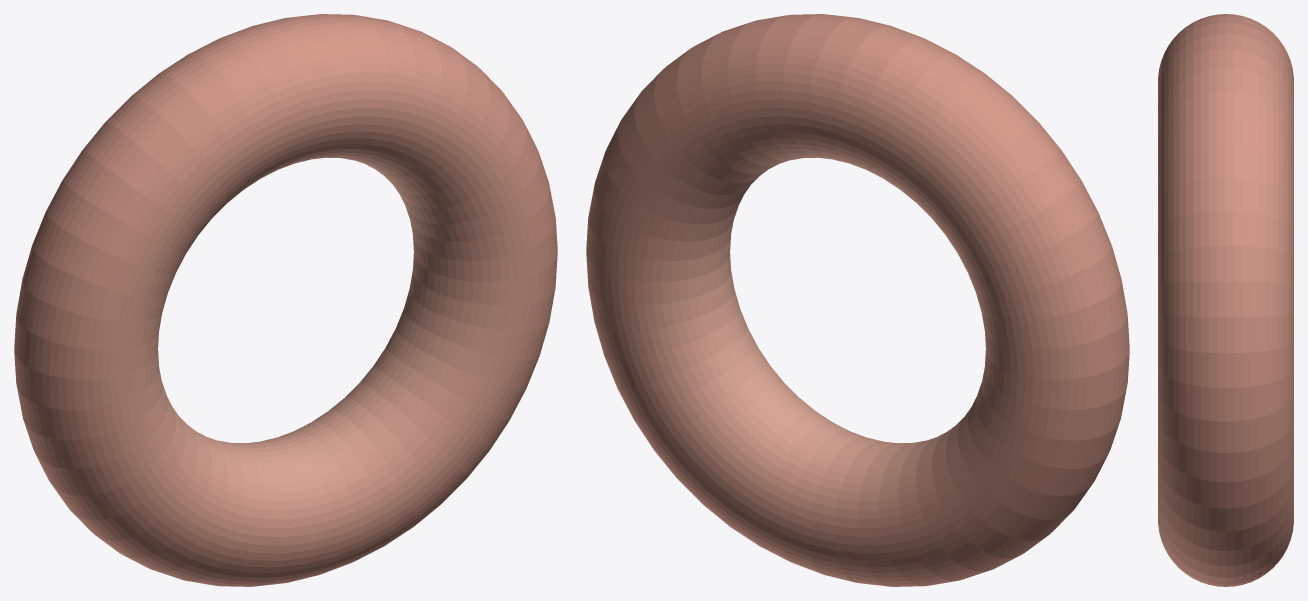
3 views of the same model, side by side, from view 1: azimuth 30°, elevation 25°; view 2: azimuth 150°, elevation 25°; view 3: azimuth 270°, elevation 25° (orthographic). The views are drawn at different scales.
Parts seen in each view (by area): view 1: world; view 2: world; view 3: world.
Boxes of the visible parts, x1,y1,x2,y2 form: world: [14, 14, 557, 586]; world: [586, 14, 1129, 586]; world: [1158, 14, 1293, 586].
Bounding box in the file's own units: 29.73 × 29.67 × 7.05.
